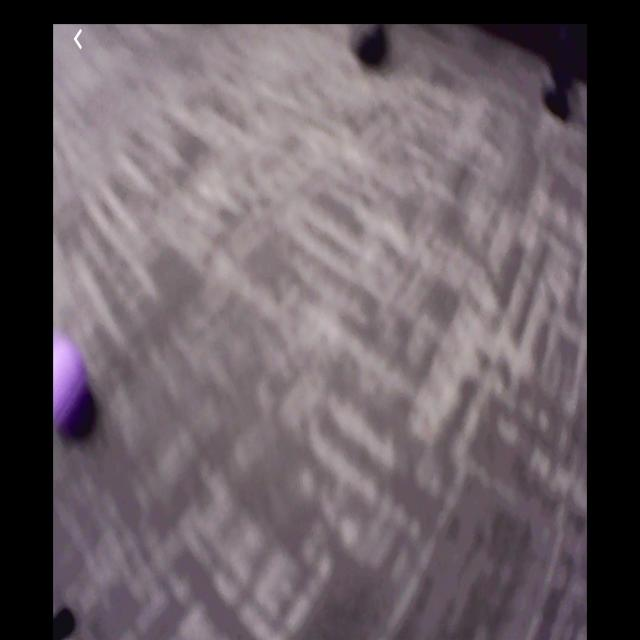ball: (55, 331, 93, 440)
